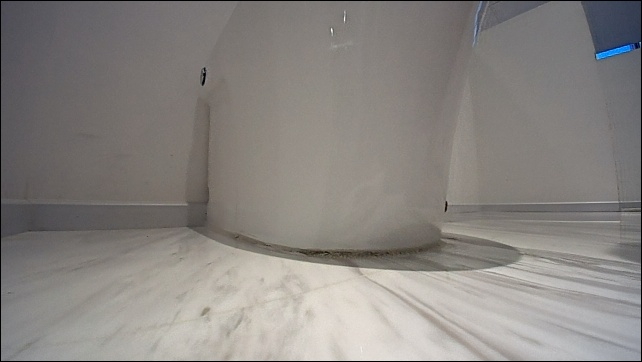toilet: (189, 0, 491, 252)
